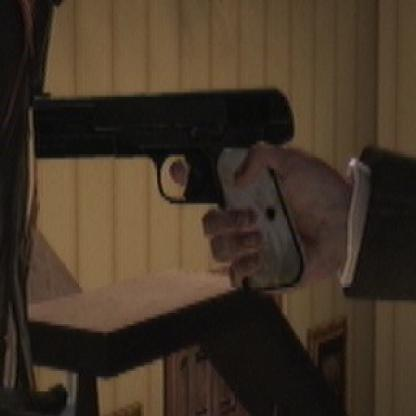gun: (32, 82, 316, 291)
